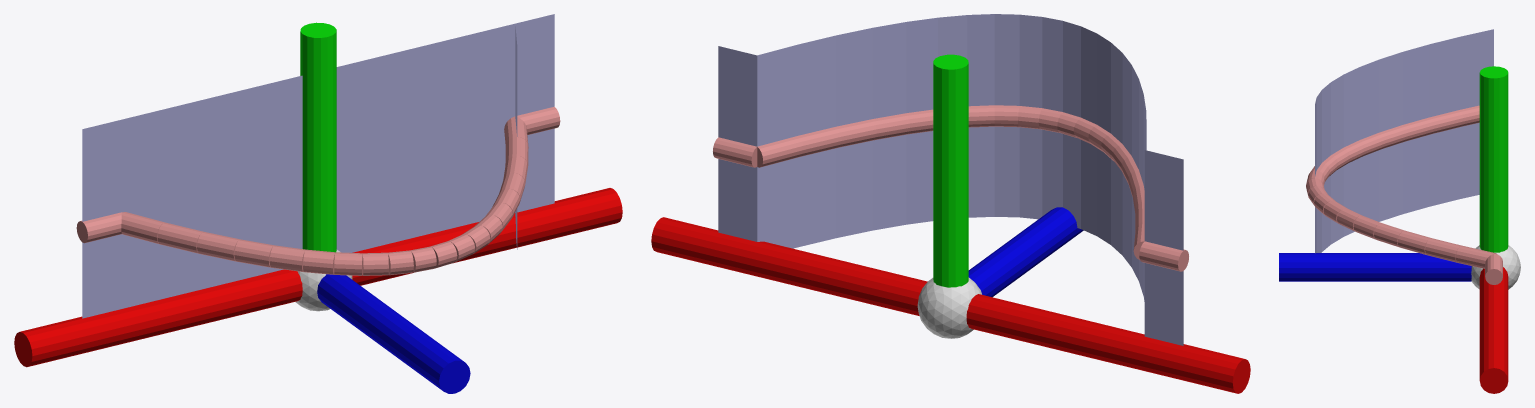
Rendered from volume_integration.glb.
3 renders of one model, left to right at view 1: azimuth 30°, elevation 25°; view 2: azimuth 150°, elevation 25°; view 3: azimuth 270°, elevation 25°, orthographic. The views are drawn at different scales.
Visible parts, largest first — view 1: world; view 2: world; view 3: world.
Part boxes in pixels (x1,y1,x2,y2): world: [14, 14, 622, 393]; world: [651, 14, 1250, 393]; world: [1279, 29, 1520, 393].
Size of the model in its own units: 3 by 1.35 by 1.35.
